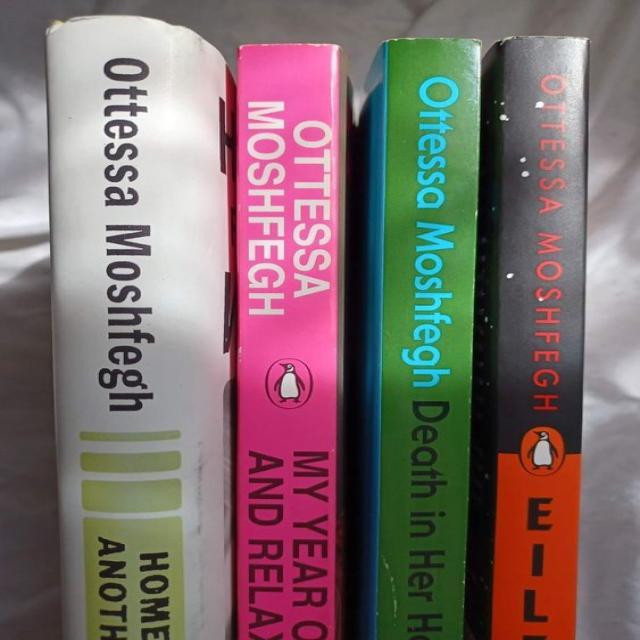book: (47, 16, 231, 639), (348, 38, 480, 639), (466, 37, 588, 639), (236, 45, 347, 639)
